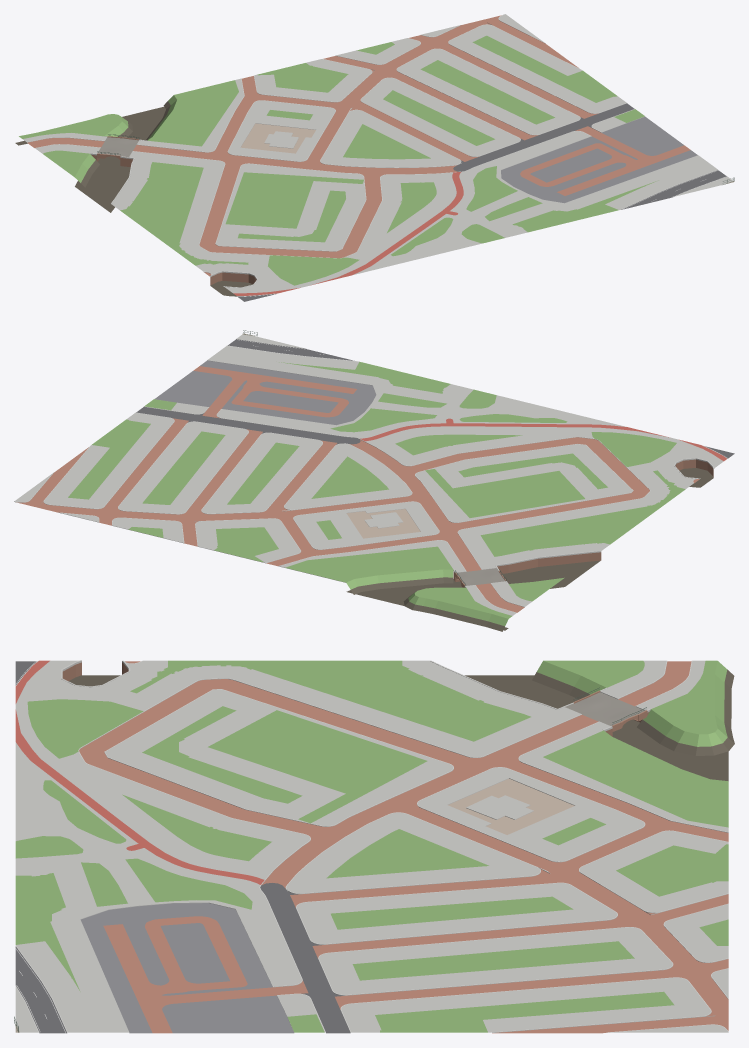
The model's file is ground_6_5.glb.
3 renders of one model, top to bottom at view 1: azimuth 30°, elevation 25°; view 2: azimuth 150°, elevation 25°; view 3: azimuth 270°, elevation 25°, orthographic. The views are drawn at different scales.
Parts seen in each view (by area): view 1: ground_6_5; view 2: ground_6_5; view 3: ground_6_5.
Part boxes in pixels (x1,y1,x2,y2): ground_6_5: (15,14,734,301); ground_6_5: (14,330,734,631); ground_6_5: (14,660,734,1033).
Bounding box in the file's own units: 201 × 5.17 × 164.
